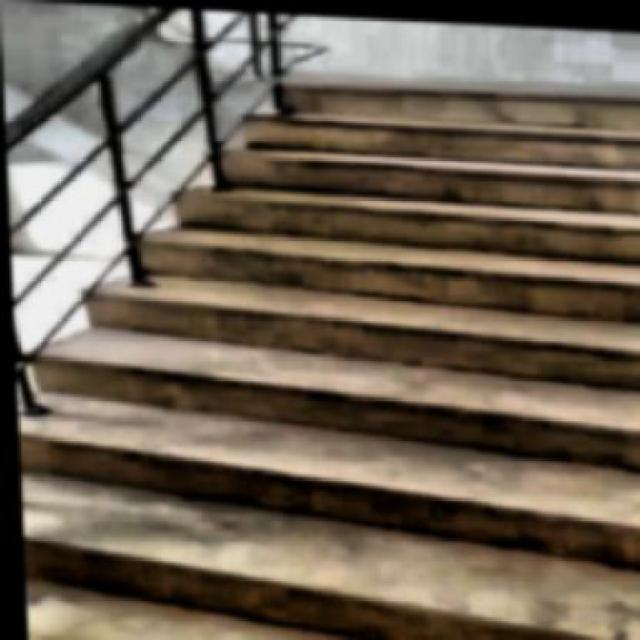stair: (4, 57, 638, 638)
